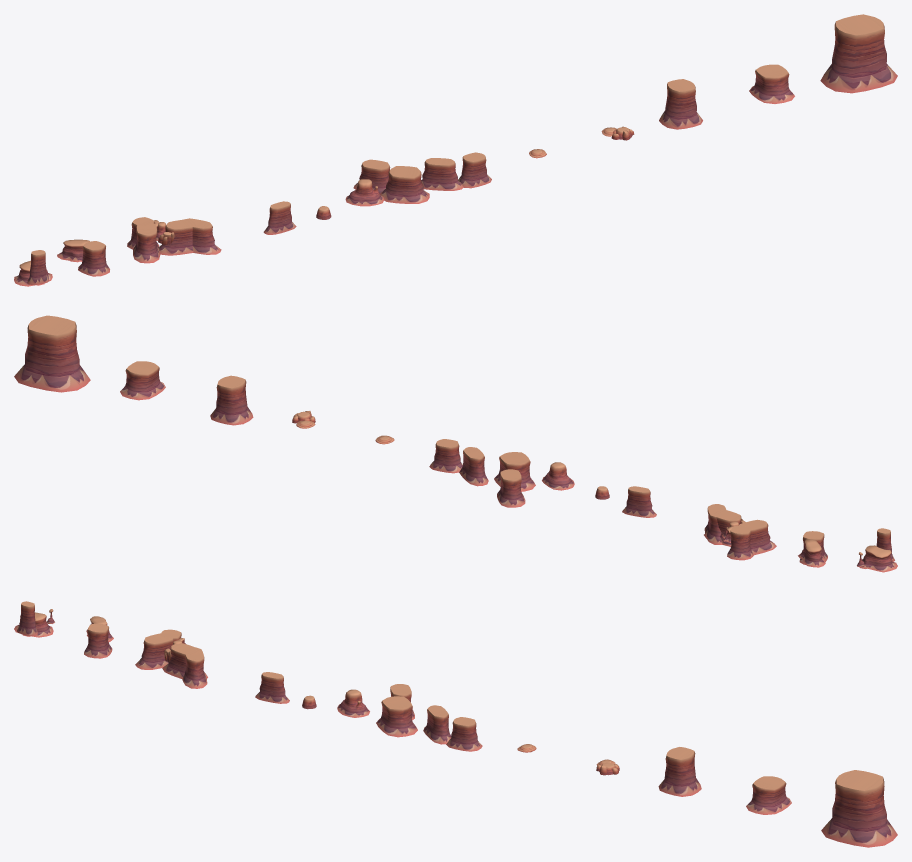
File: Rock 01.fbx
3 renders of one model, top to bottom at view 1: azimuth 30°, elevation 25°; view 2: azimuth 150°, elevation 25°; view 3: azimuth 330°, elevation 25°, orthographic.
Parts seen in each view (by area): view 1: BigStones_001__37_, polySurface36, polySurface7, polySurface43, polySurface25, polySurface13, polySurface2, polySurface10, polySurface42, polySurface4; view 2: BigStones_001__37_, polySurface36, polySurface43, polySurface7, polySurface25, polySurface13, polySurface10, polySurface2, polySurface42, polySurface4; view 3: BigStones_001__37_, polySurface36, polySurface43, polySurface7, polySurface25, polySurface13, polySurface10, polySurface2, polySurface42, polySurface4.
Part boxes in pixels (x1,y1,x2,y2): BigStones_001__37_: [820, 14, 897, 93]; polySurface36: [127, 217, 221, 263]; polySurface7: [353, 159, 429, 203]; polySurface43: [421, 152, 491, 190]; polySurface25: [659, 79, 702, 129]; polySurface13: [749, 64, 794, 103]; polySurface2: [57, 239, 109, 276]; polySurface10: [14, 250, 52, 286]; polySurface42: [263, 201, 296, 234]; polySurface4: [345, 179, 384, 206]; BigStones_001__37_: [14, 315, 90, 392]; polySurface36: [704, 504, 776, 560]; polySurface43: [429, 439, 488, 486]; polySurface7: [494, 452, 535, 507]; polySurface25: [210, 375, 253, 425]; polySurface13: [120, 361, 165, 400]; polySurface10: [857, 528, 897, 572]; polySurface2: [798, 531, 827, 567]; polySurface42: [622, 486, 656, 517]; polySurface4: [542, 462, 574, 490]; BigStones_001__37_: [821, 770, 897, 847]; polySurface36: [135, 629, 207, 688]; polySurface43: [423, 705, 482, 751]; polySurface7: [376, 684, 417, 737]; polySurface25: [658, 747, 701, 796]; polySurface13: [746, 776, 791, 814]; polySurface10: [14, 601, 54, 637]; polySurface2: [84, 616, 113, 658]; polySurface42: [255, 672, 289, 703]; polySurface4: [337, 689, 369, 717].
Bounding box in the file's own units: 588861 × 34728 × 44086.
Materials: 1 (1 with a texture image).
